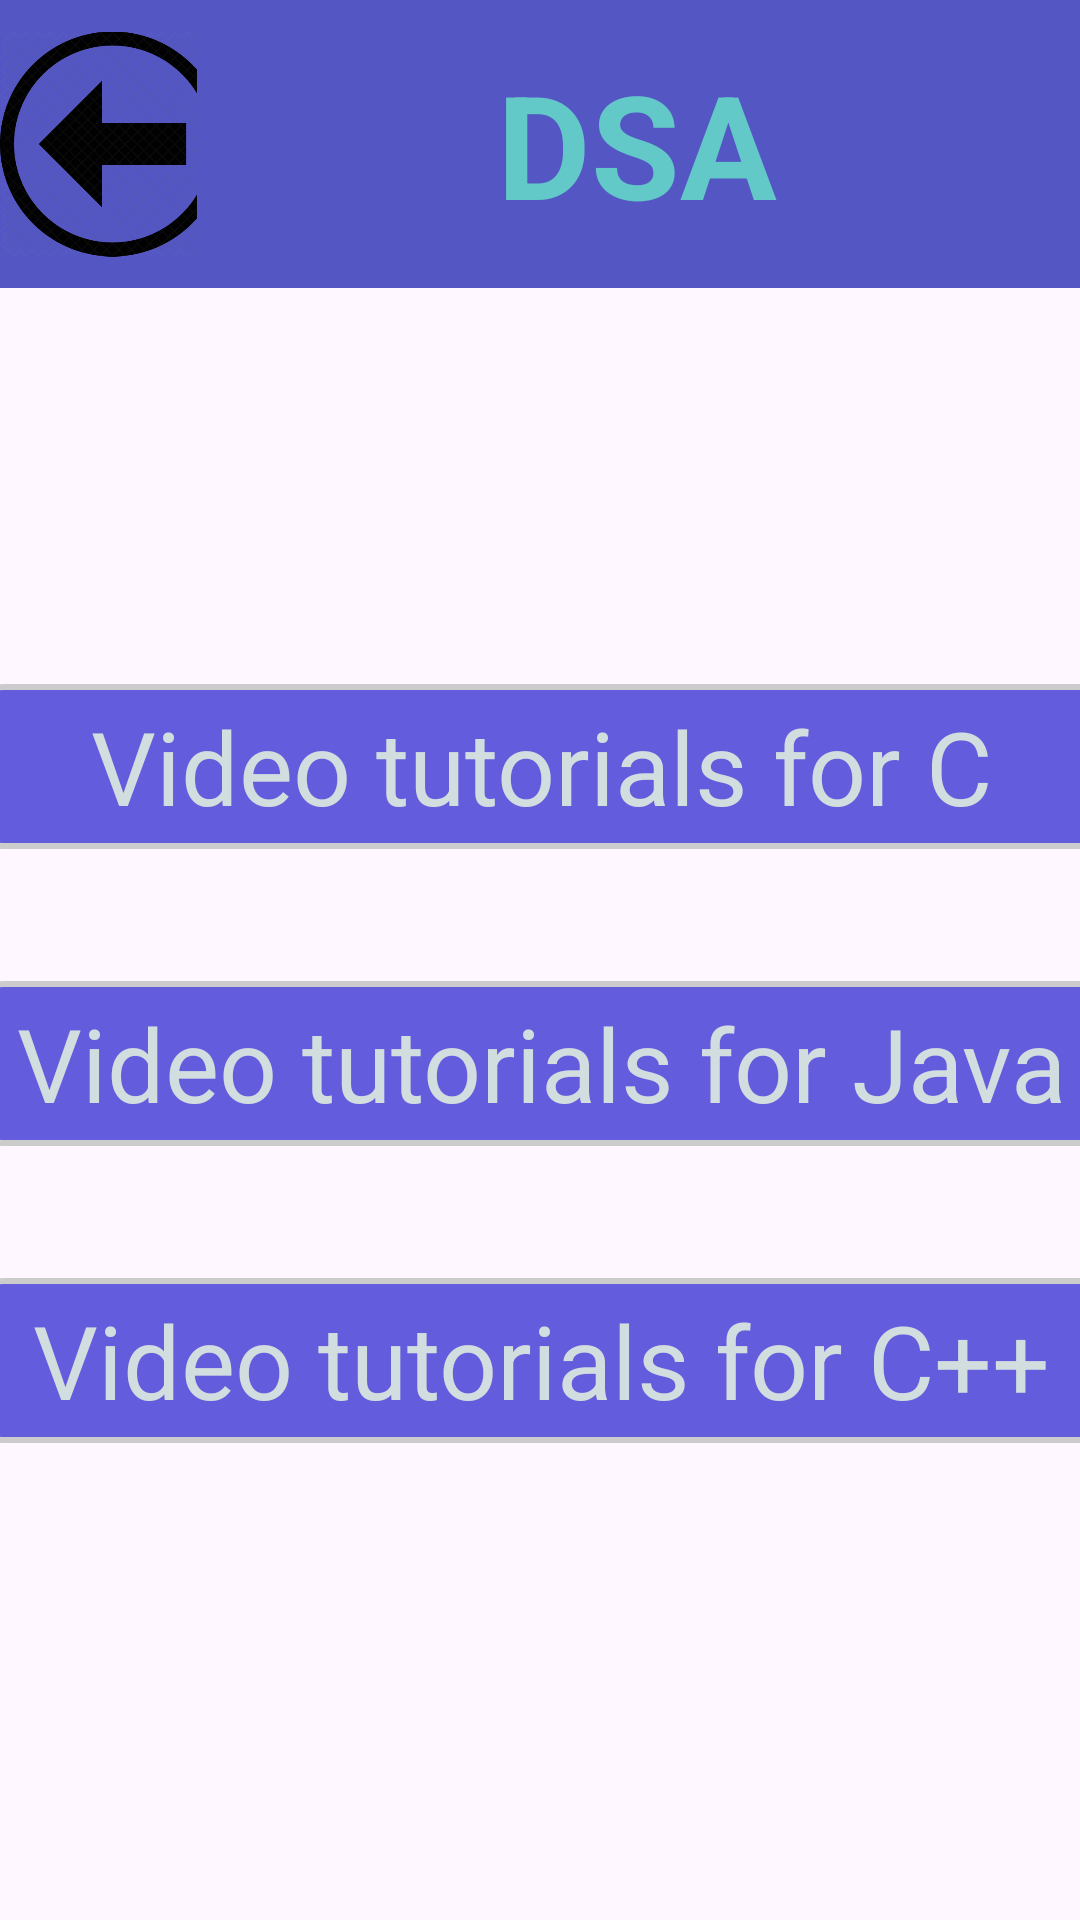

Named icons in this screenshot (1080px x 1920px) and their bounding boxes, [left=x1, top=y1, right=x2, bottom=y2]:
back: [left=0, top=32, right=197, bottom=257]
